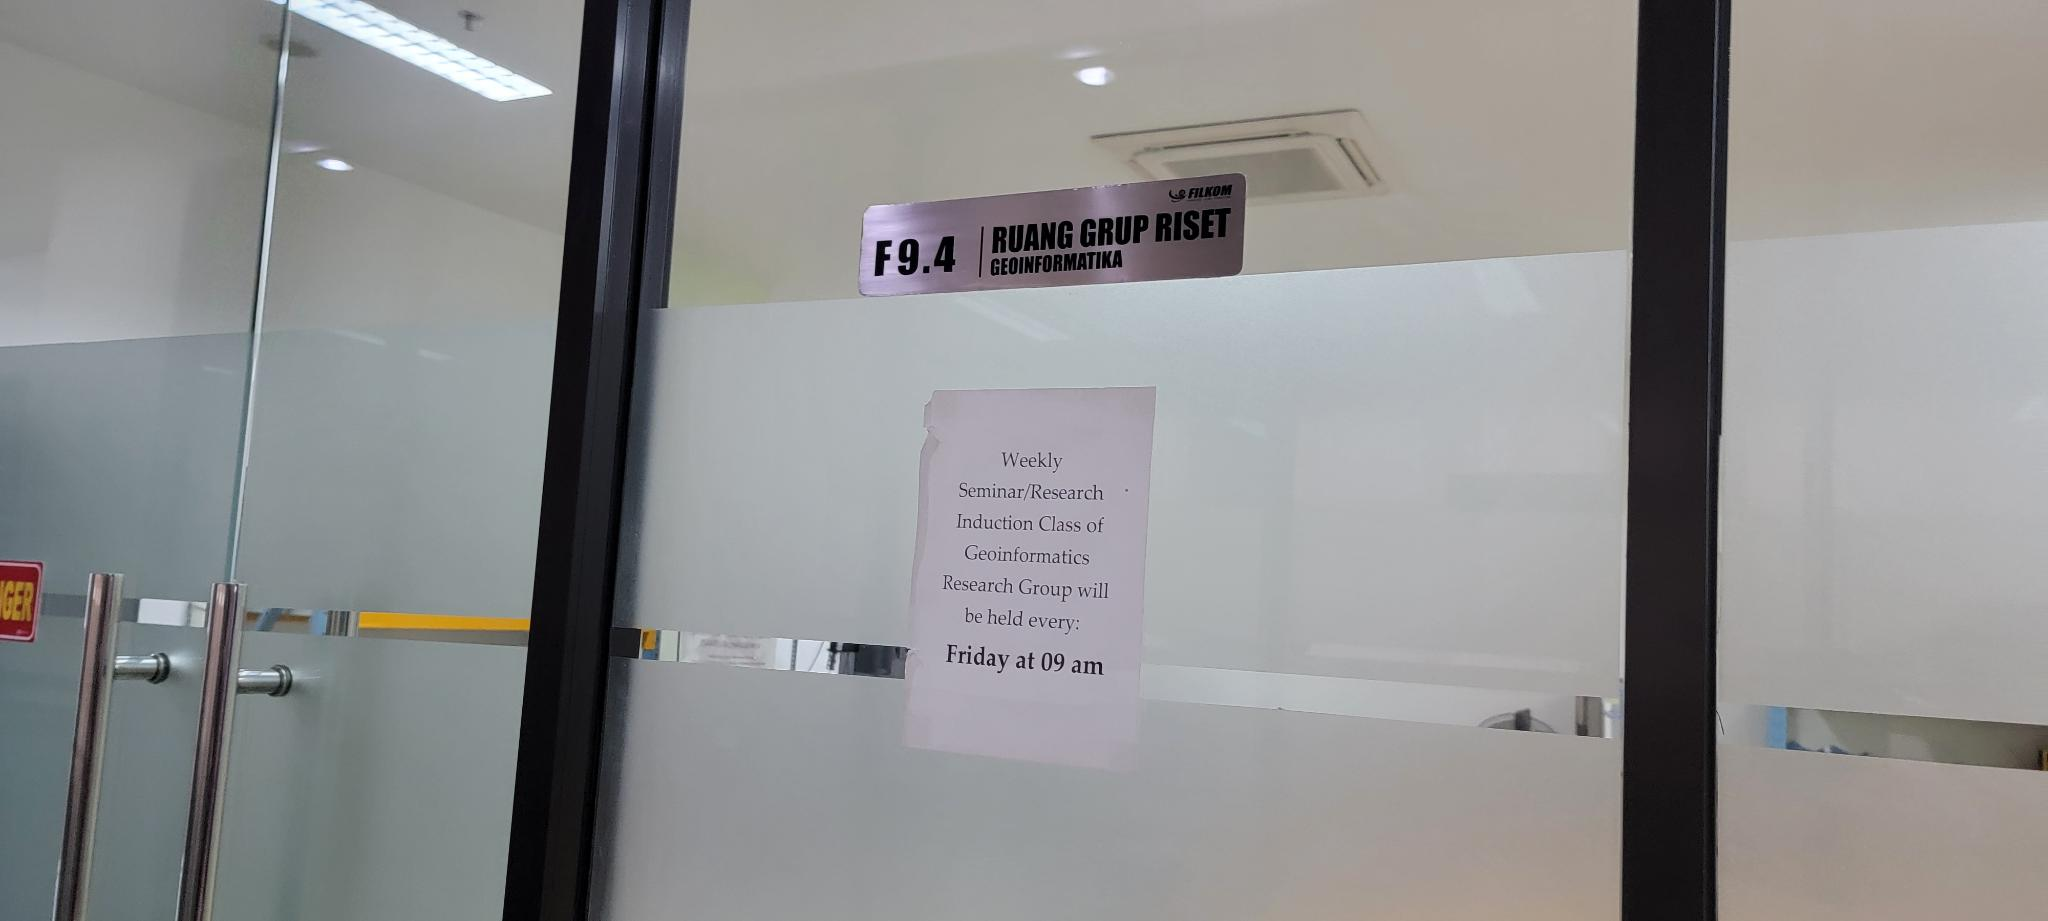plate: (859, 174, 1243, 299)
